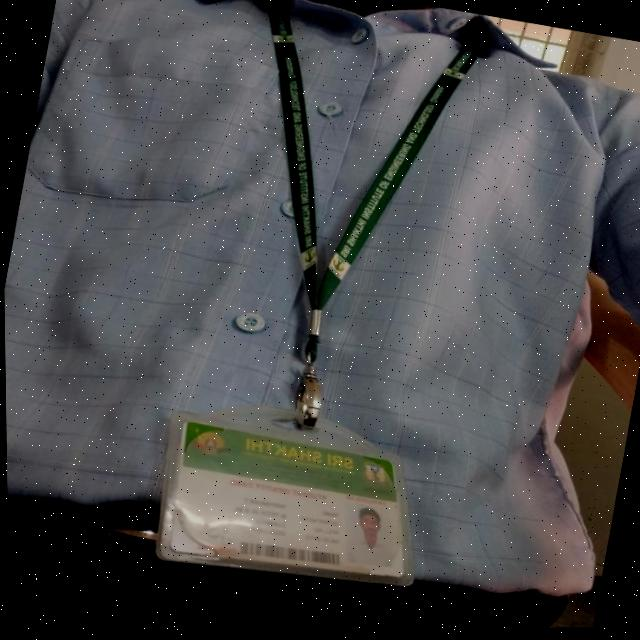id_card: (149, 0, 507, 605)
